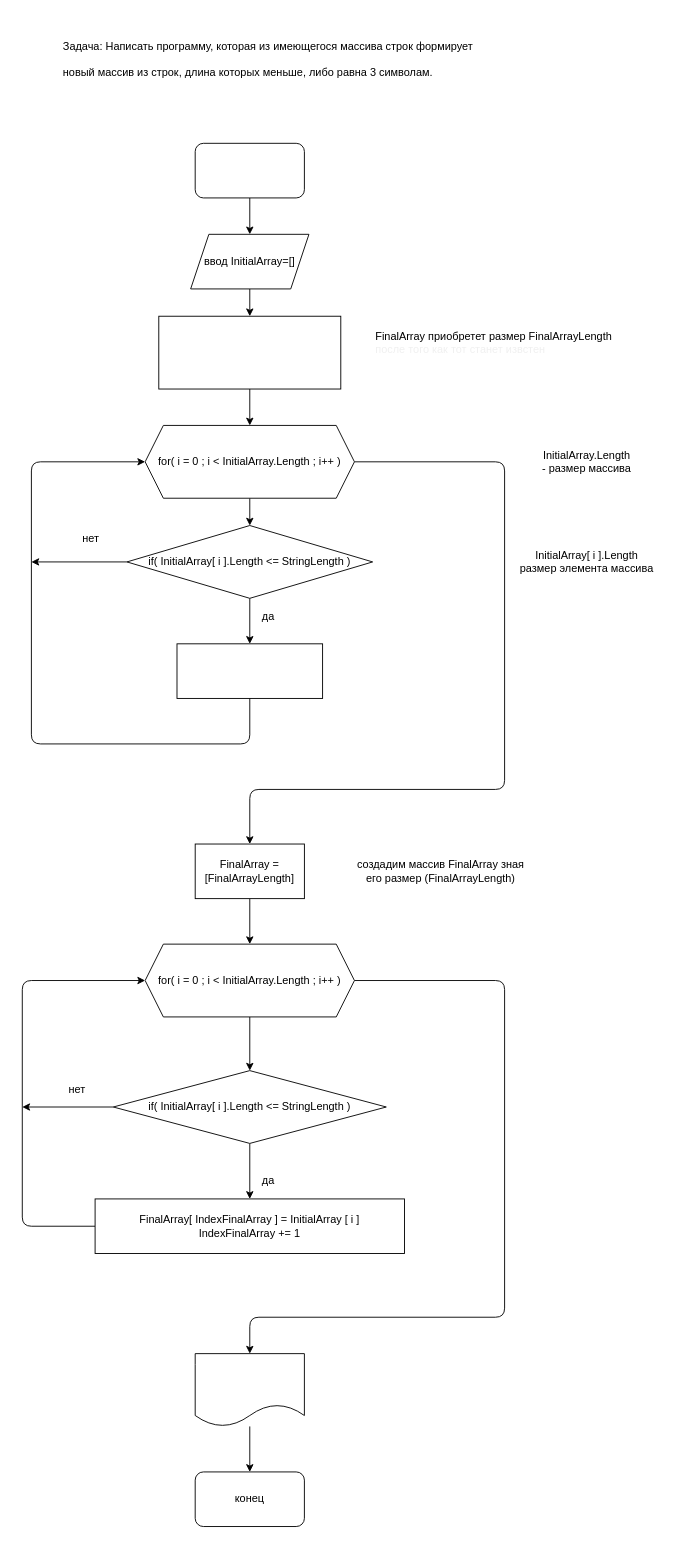
This 675x1542 diagram has some shape labels left out. Here are the shapes that lost their labels. From the top down, the centre of each, then its label:
At (249,170): "начало".
At (249,352): "FinalArray=[] FinalArrayLength=0 IndexFinalArray=0 StringLength=3".
At (249,670): "FinalArrayLength += 1".
At (249,1389): "FinalArray[]".
